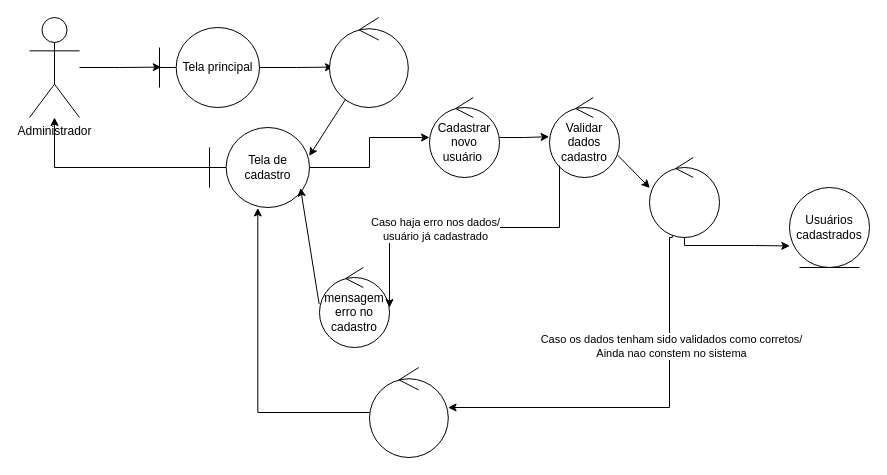
The diagram is 887 pixels wide and 475 high, and some of its shapes have lost their labels. The shapes that lost their labels are listed below. From the top down, each one's centre as x and y in pixels, then its label:
At [368,62]: "Acessar tela de cadastro".
At [684,197]: "Criar novo usuário".
At [408,412]: "Mensagem usuário criado com sucesso".
